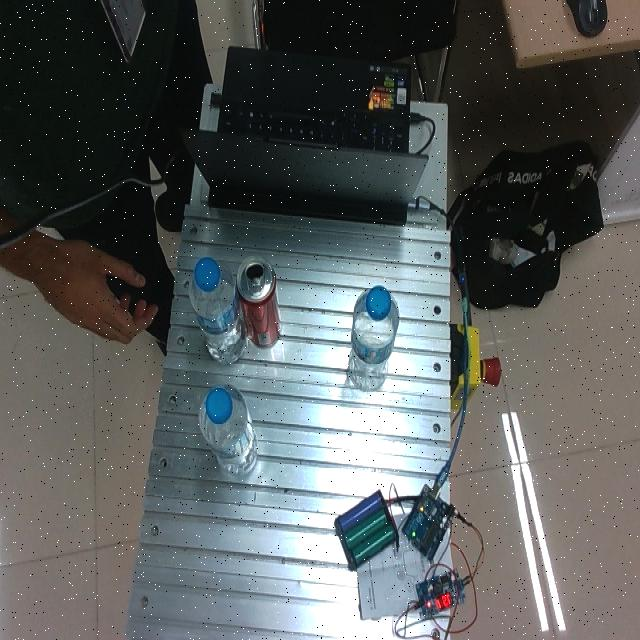coca: (236, 256, 282, 349)
lavie: (189, 257, 249, 364), (200, 384, 259, 476), (349, 287, 399, 389)
